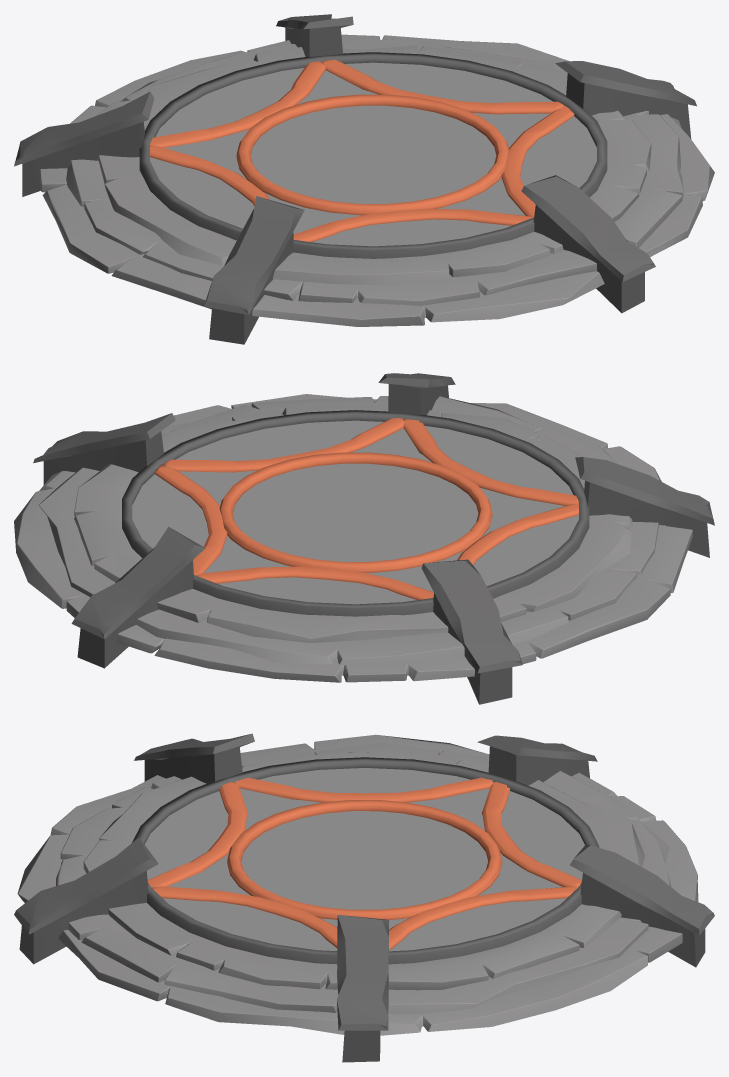
File: altar.fbx
The picture shows the model from 3 angles, top to bottom: view 1: azimuth 30°, elevation 25°; view 2: azimuth 150°, elevation 25°; view 3: azimuth 270°, elevation 25°; orthographic projection.
Visible parts, largest first — view 1: altar; view 2: altar; view 3: altar.
Part boxes in pixels (x1,y1,x2,y2): altar: (14, 14, 714, 344); altar: (14, 373, 714, 704); altar: (14, 733, 714, 1062).
Bounding box in the file's own units: 24.41 × 3.58 × 24.24.
